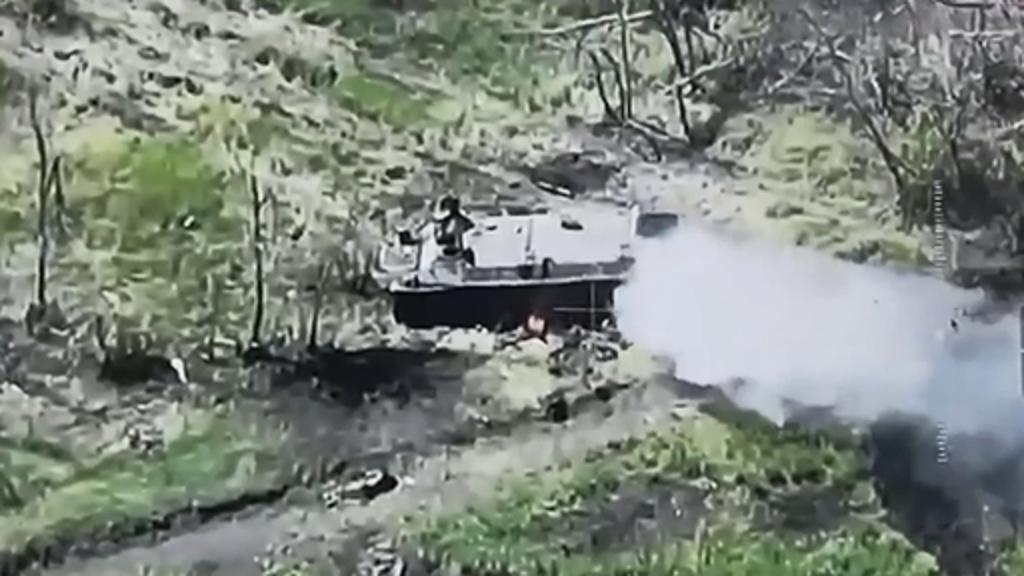APC-IFV: (358, 170, 664, 338)
